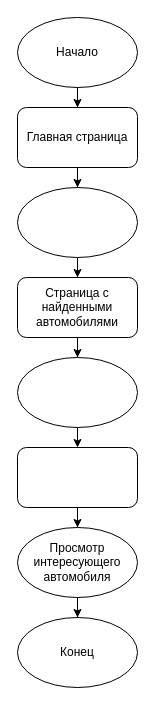
The diagram is 155 pixels wide and 705 high, and some of its shapes have lost their labels. The shapes that lost their labels are listed below. From the top down, each one's centre as x and y in pixels, then its label:
At point 77,222: "Ввести модель авто в поисковую строку".
At point 77,392: "Применить необходимые фильтры".
At point 77,477: "Страница с отфильтрованными автомобилями".
